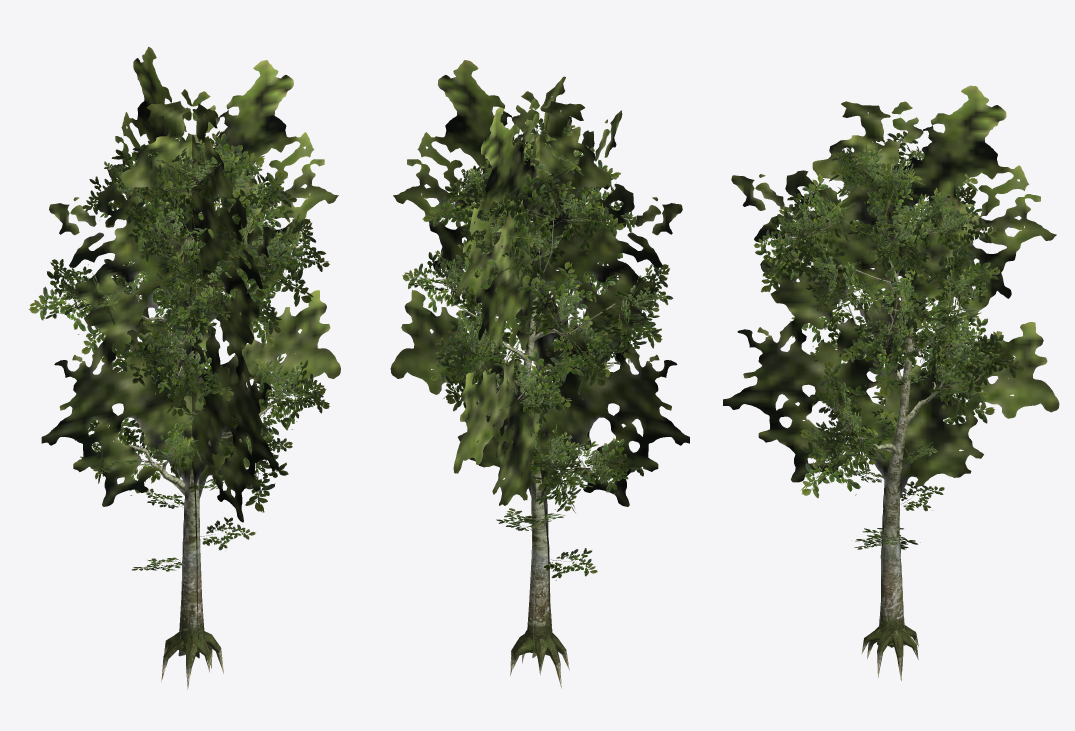
File: Tree-Beech2A.fbx
3 views of the same model, side by side, from view 1: azimuth 30°, elevation 25°; view 2: azimuth 150°, elevation 25°; view 3: azimuth 270°, elevation 25° (orthographic). The views are drawn at different scales.
Visible parts, largest first — view 1: Billboard-BeechA, Tree-Beech2A_LOD0; view 2: Billboard-BeechA, Tree-Beech2A_LOD0; view 3: Billboard-BeechA, Tree-Beech2A_LOD0.
Boxes of the visible parts, x1,y1,x2,y2 form: Billboard-BeechA: [41, 46, 340, 658]; Tree-Beech2A_LOD0: [28, 130, 329, 689]; Billboard-BeechA: [390, 60, 689, 657]; Tree-Beech2A_LOD0: [402, 118, 673, 688]; Billboard-BeechA: [723, 85, 1059, 645]; Tree-Beech2A_LOD0: [753, 131, 1025, 680].
Size of what is drawn, in the model's own units: 1713 by 3241 by 1694.
